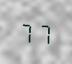seven: (35, 19, 50, 44), (19, 19, 34, 43)
